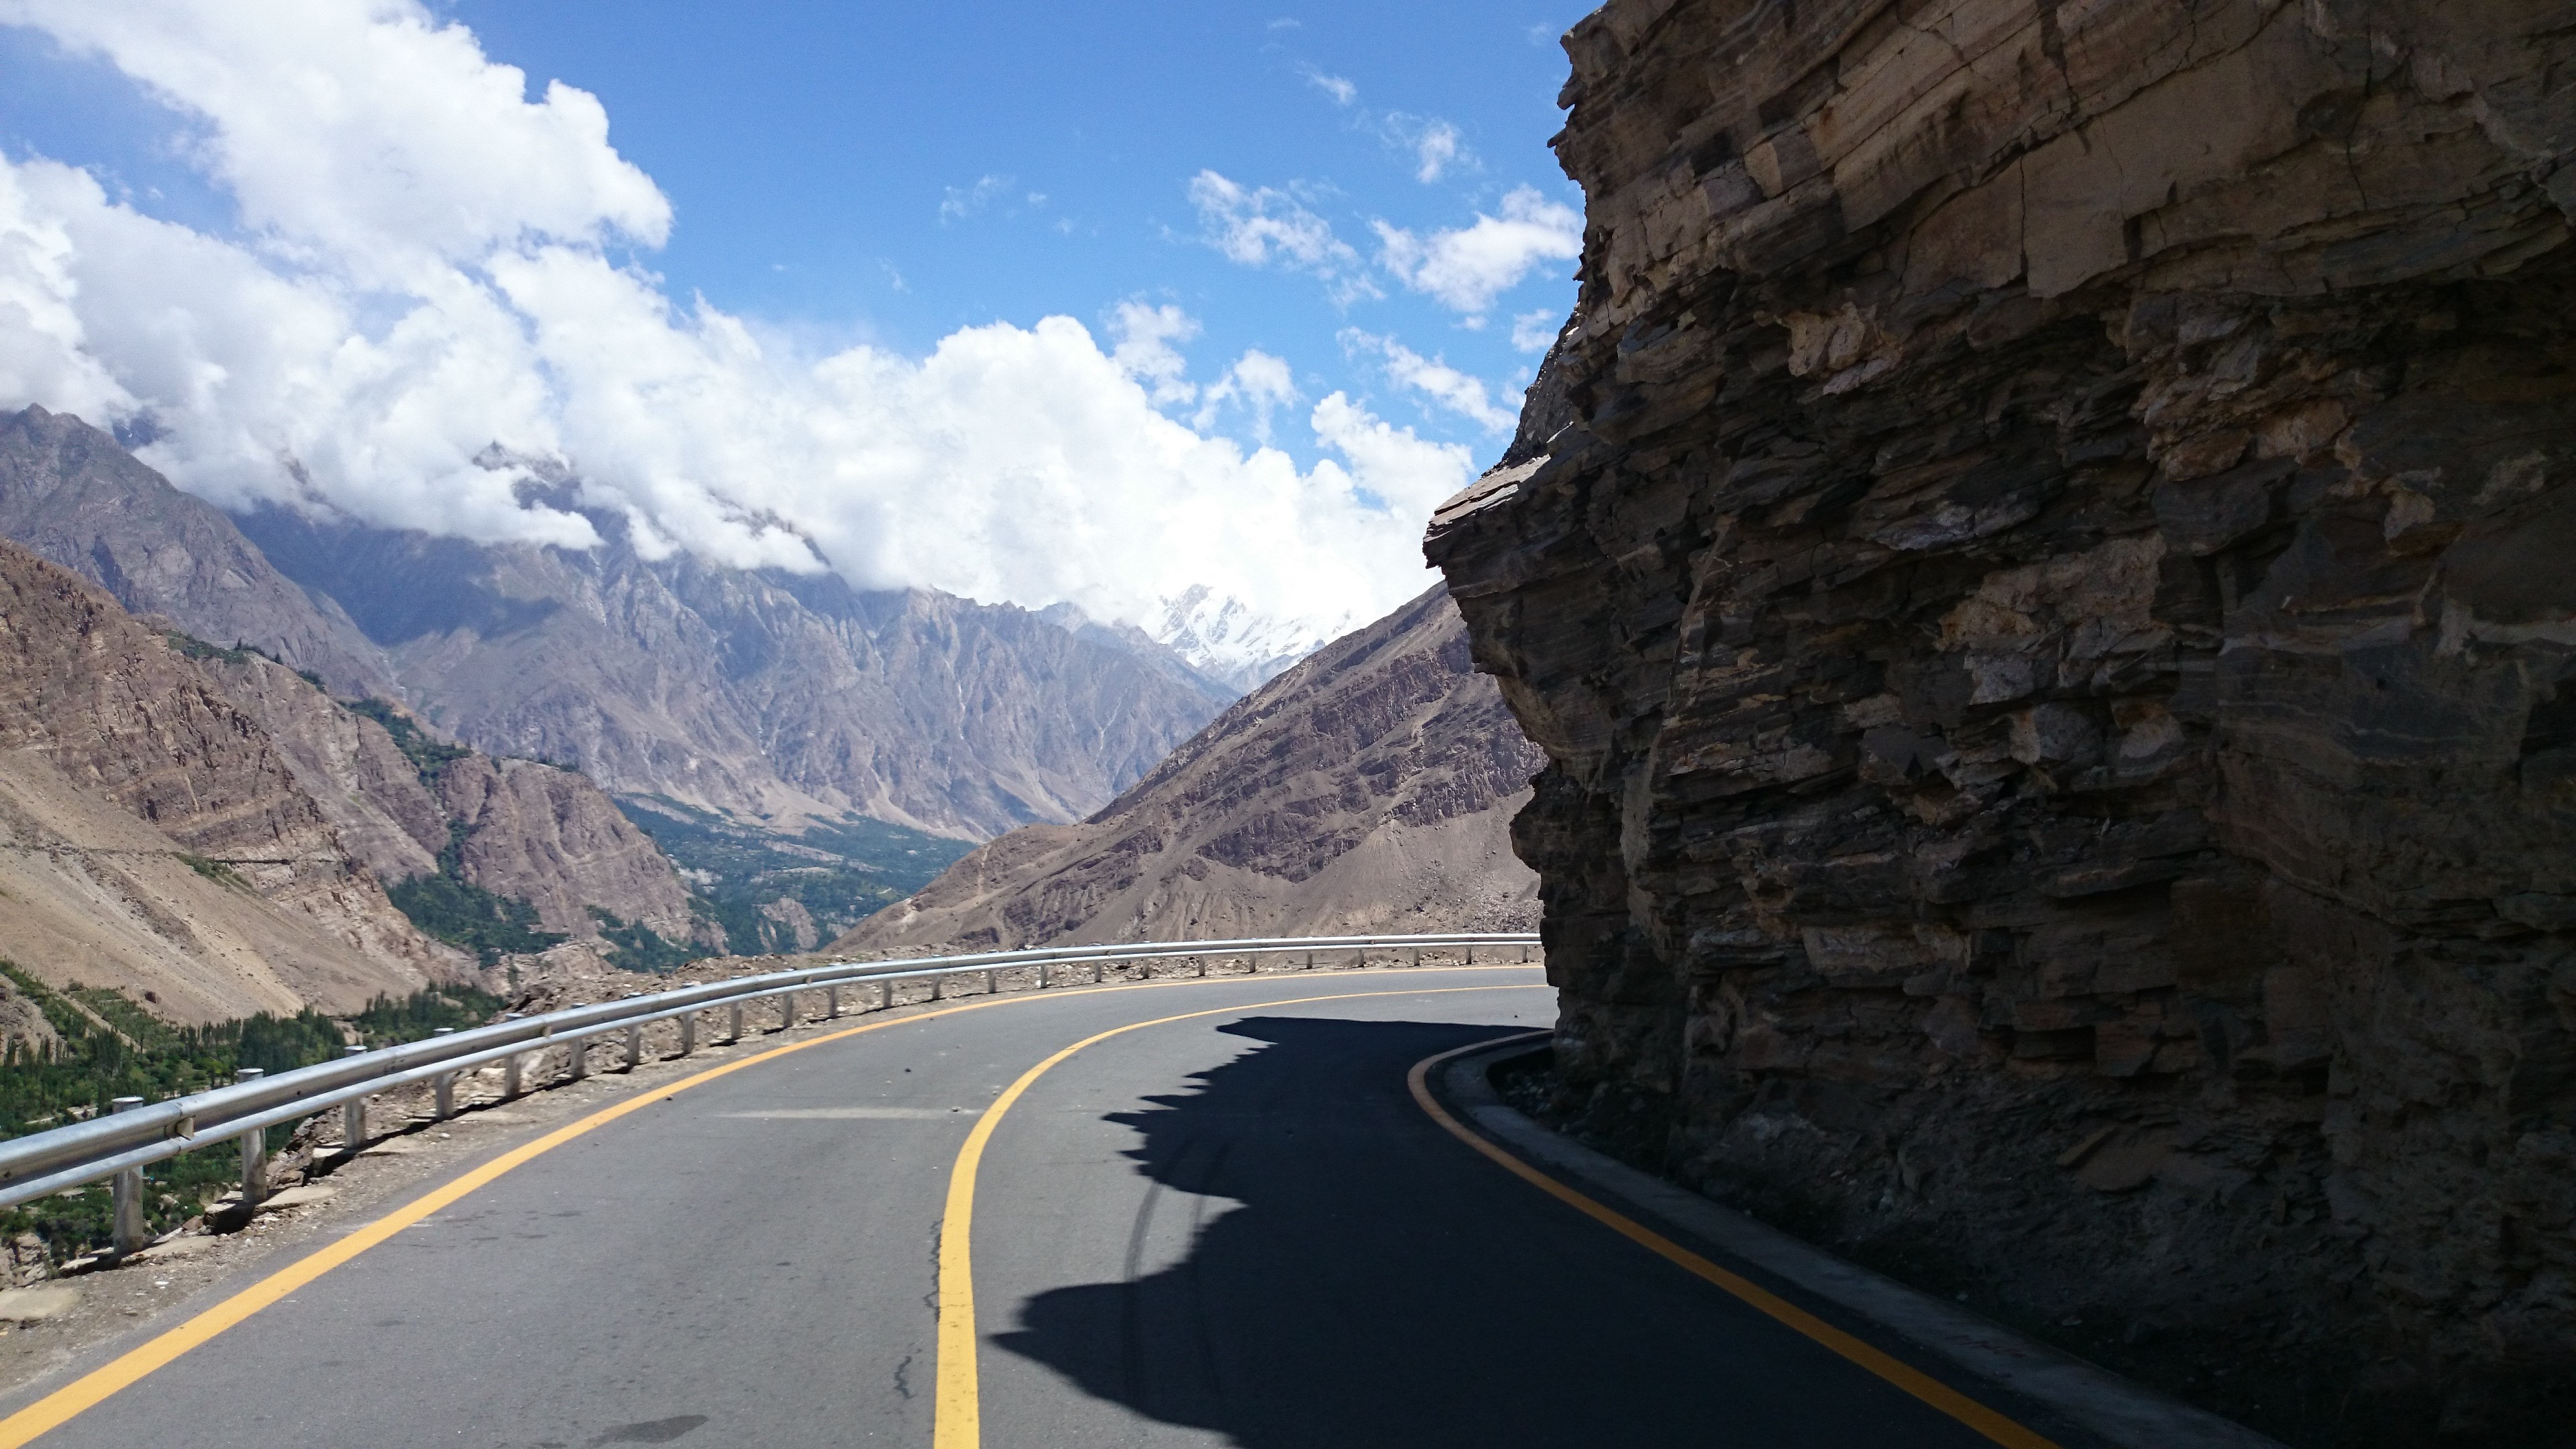rightTrun: (556, 899, 1516, 1449)
